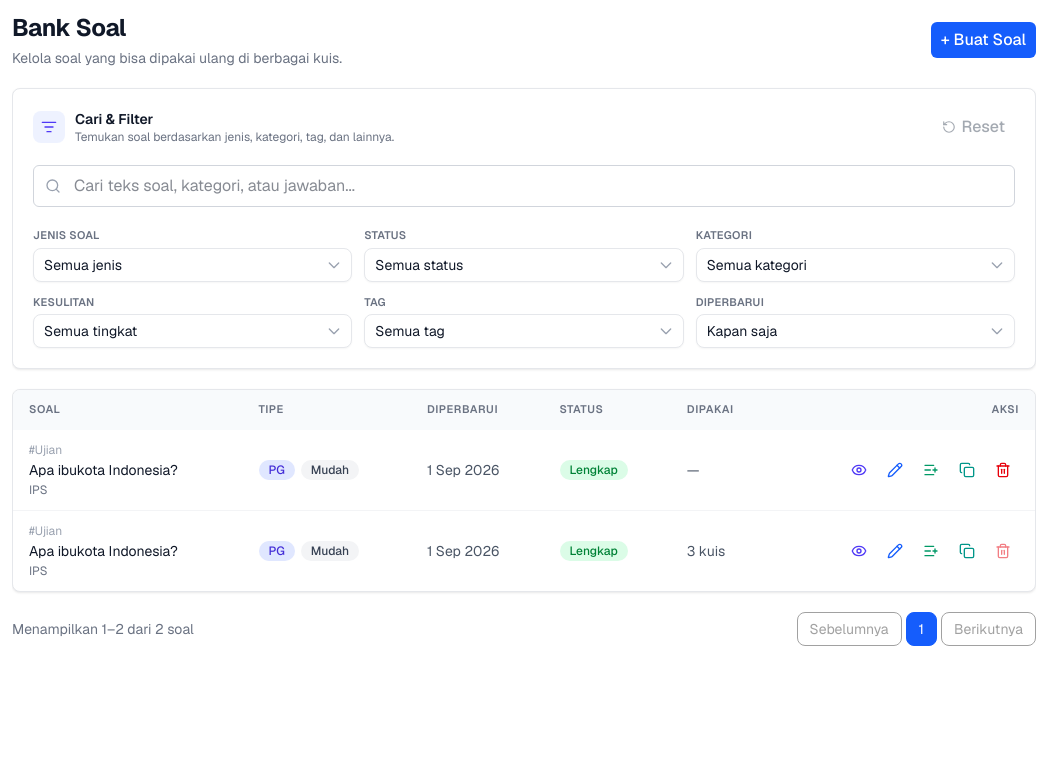
Test case: QuestionBank › duplicates a question through the bank endpoint
Click the button with test id "bank-action-1-duplicate": (967, 470) [951, 454, 983, 486]
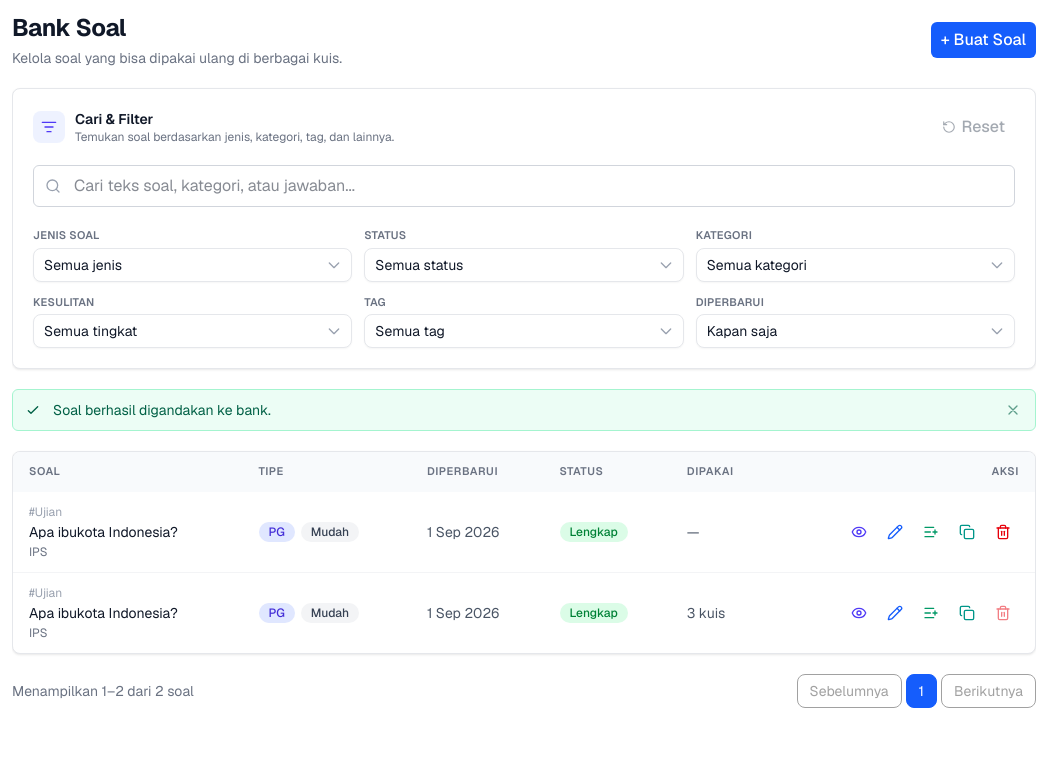
Check: the element with test id "bank-notice" reads "Soal berhasil digandakan ke bank.", box [53, 401, 271, 419]
